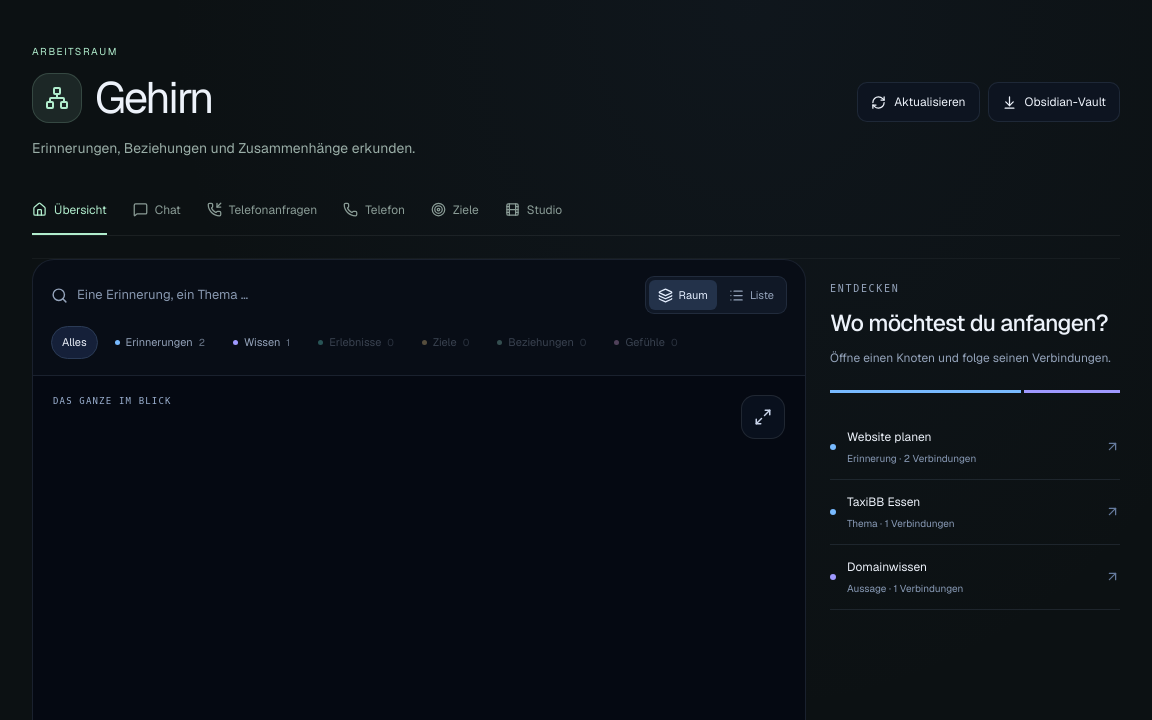
Test: Gehirnansicht › zeigt und kopiert lange Inhalte vollständig und erhält die Suche beim Schließen
Type "Cully" into the search field at (354, 295), box [77, 276, 631, 314]
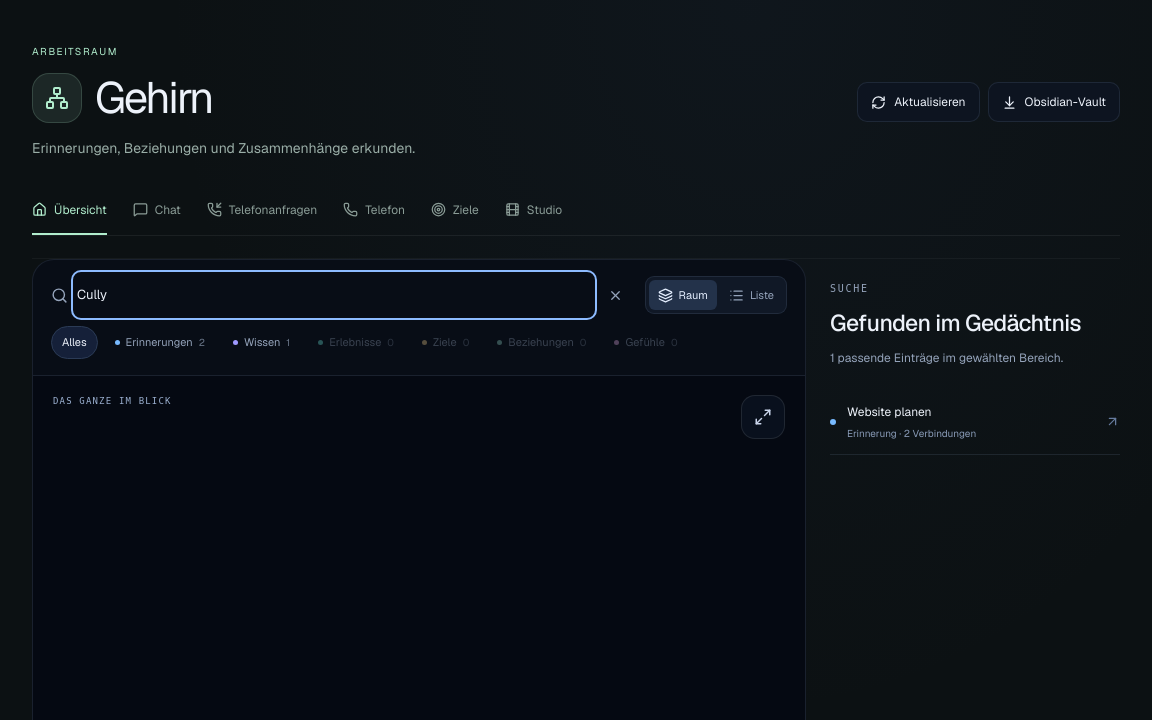
Click the button "Website planen Erinnerung · 2 Verbindungen" at (889, 412), box [830, 390, 1120, 455]
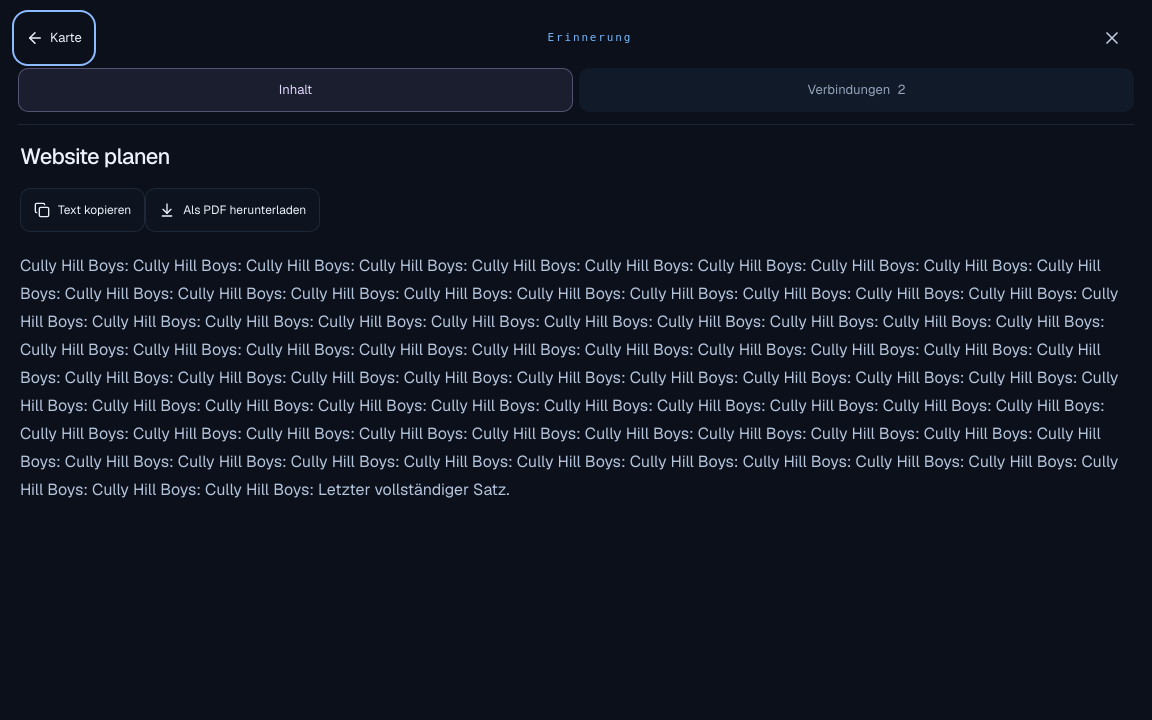
Click the button "Text kopieren" at (83, 210), box [20, 188, 145, 232]
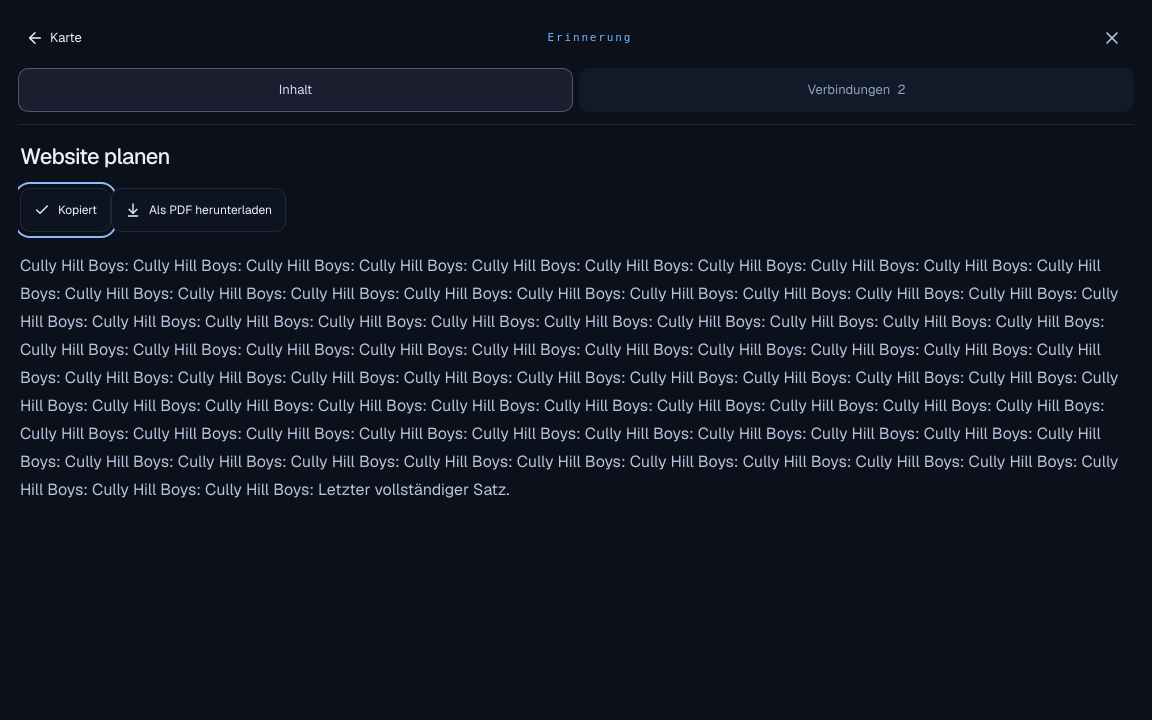
Click the button named "Auswahl schließen" at (1112, 38), box [1090, 16, 1134, 60]
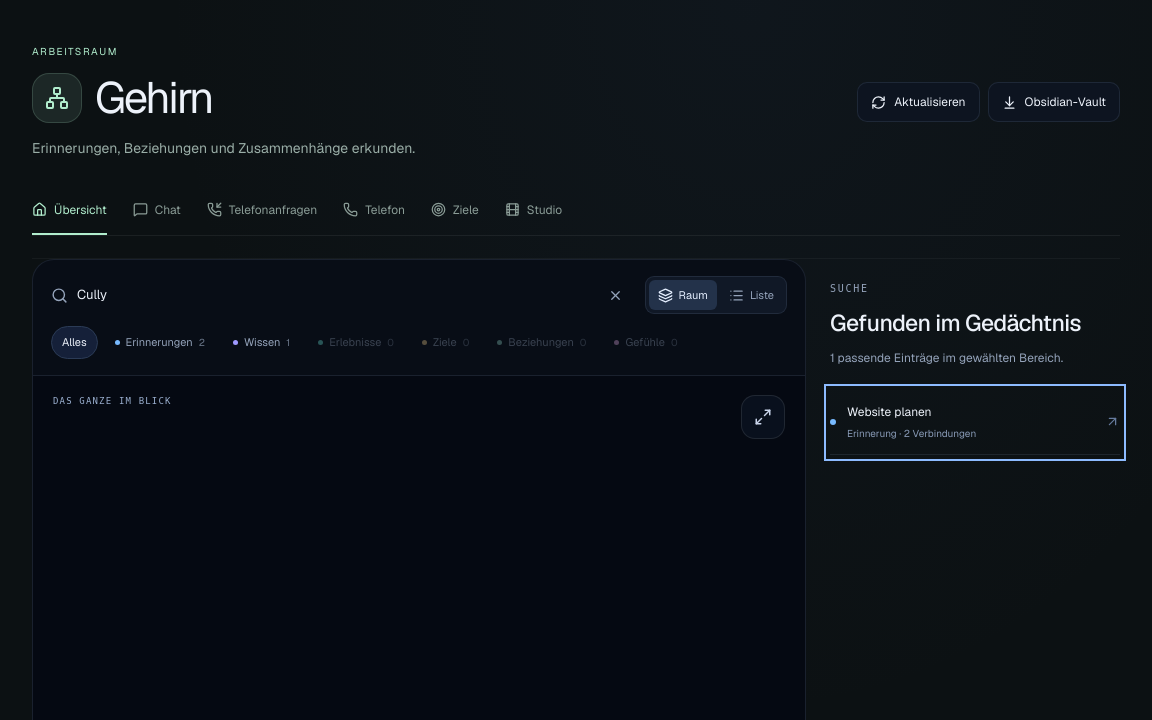
Check: the button "Website planen Erinnerung · 2 Verbindungen" is shown, box [830, 390, 1120, 455]
